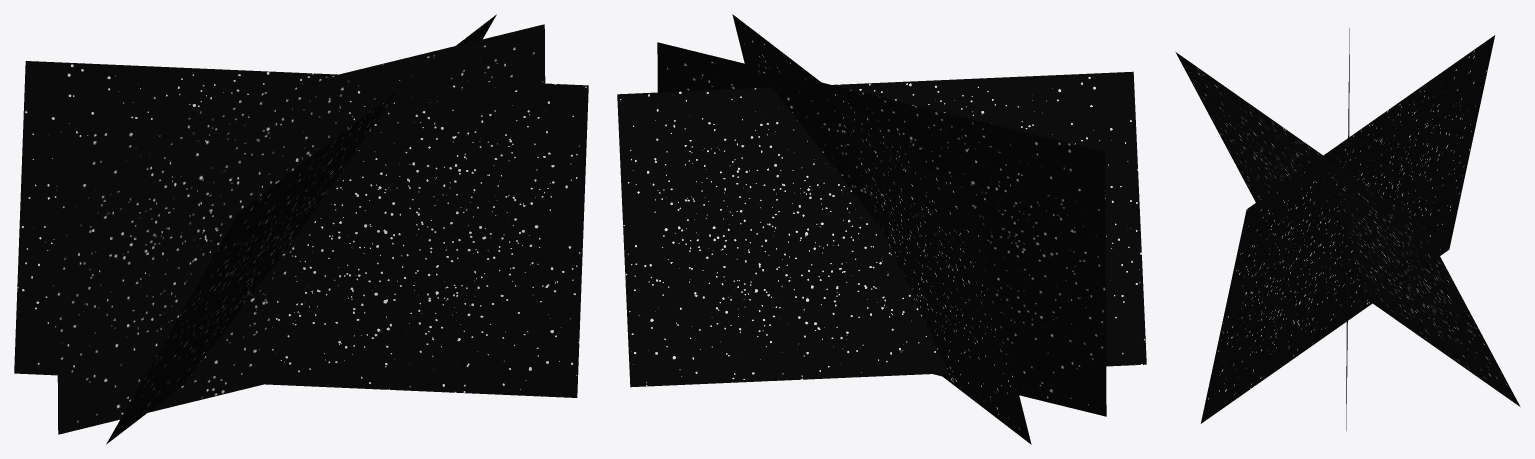
Rendered from particles_001.glb.
3 renders of one model, left to right at view 1: azimuth 30°, elevation 25°; view 2: azimuth 150°, elevation 25°; view 3: azimuth 270°, elevation 25°, orthographic. The views are drawn at different scales.
Visible parts, largest first — view 1: Particles_2, Particles_3, Particles_1; view 2: Particles_1, Particles_3, Particles_2; view 3: Particles_2, Particles_1, Particles_3.
Part boxes in pixels (box(x1,y1,x2,y2)): Particles_2: box(14, 61, 588, 397); Particles_3: box(56, 24, 545, 434); Particles_1: box(106, 14, 496, 444); Particles_1: box(617, 71, 1146, 387); Particles_3: box(657, 42, 1106, 416); Particles_2: box(732, 14, 1031, 444); Particles_2: box(1200, 35, 1495, 423); Particles_1: box(1175, 52, 1520, 406); Particles_3: box(1346, 28, 1349, 430).
Size of the model in its own units: 1179 by 682 by 885.
3 materials, 3 textured.
